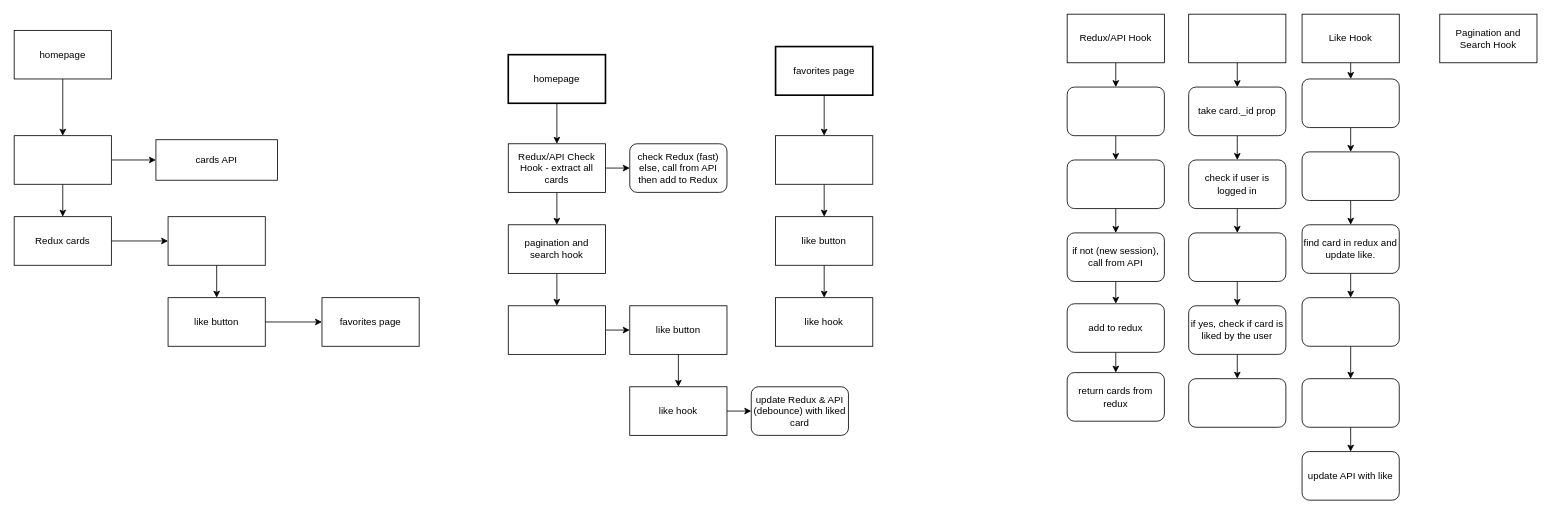
Image size: 1551x514. Some labels were removed from this diagram. Here are the shapes that lost their labels. From the top down, the centre of each, then its label:
At point 1237,38: "Render Like Icon Hook".
At point 1115,111: "check if there are cards in redux".
At point 1350,103: "get card and user data".
At point 62,159: "get cards hook".
At point 824,159: "Redux/API Check Hook - extract favorite cards".
At point 1350,175: "get liked state".
At point 1115,184: "if yes, return cards".
At point 216,240: "minicards".
At point 1237,256: "if not, return false".
At point 556,329: "cards section (render with liked status )".
At point 1350,321: "return liked boolean".
At point 1237,402: "if yes, render filled heart icon, else, return false.".
At point 1350,402: "debounce timer".
